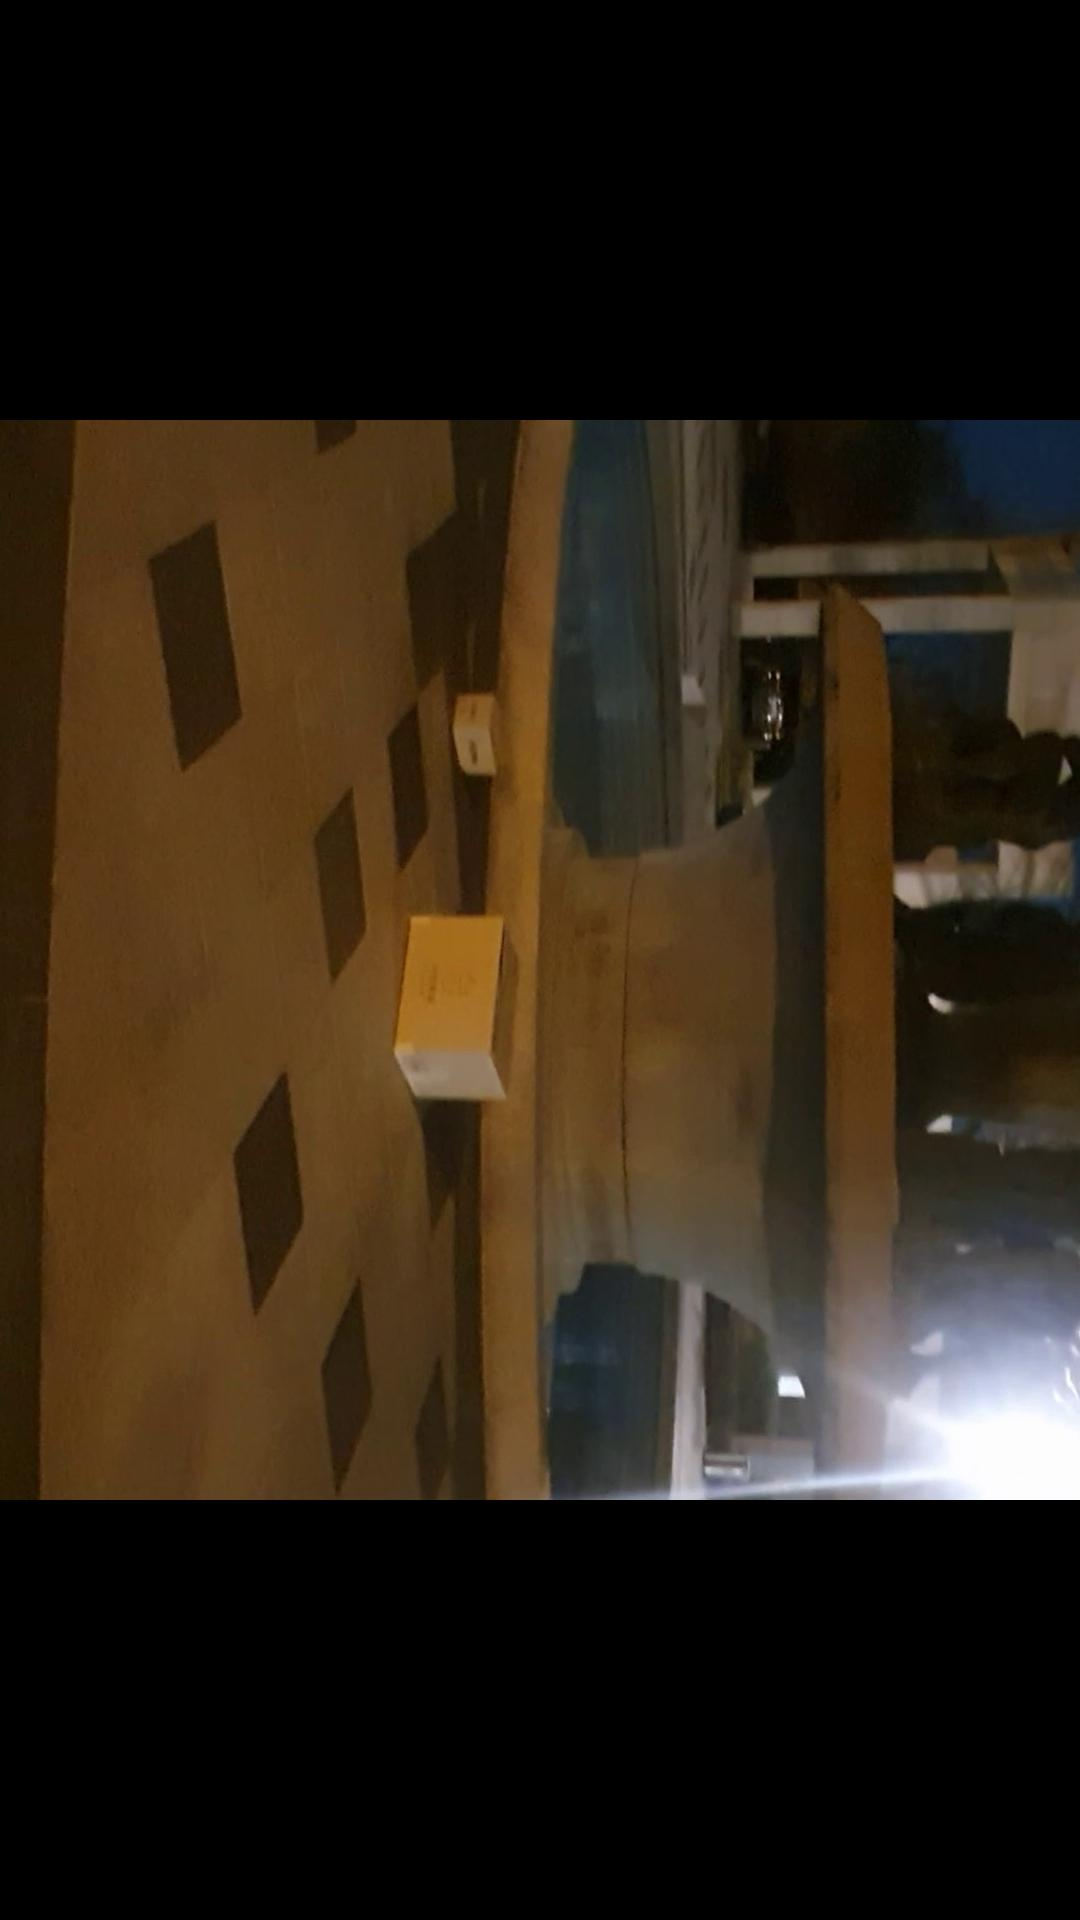Box: (396, 909, 527, 1112), (440, 658, 522, 790)
